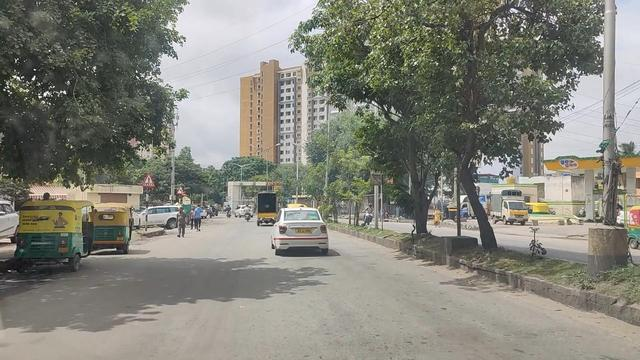LMV: (12, 199, 95, 269), (273, 205, 328, 259), (97, 205, 129, 250)
